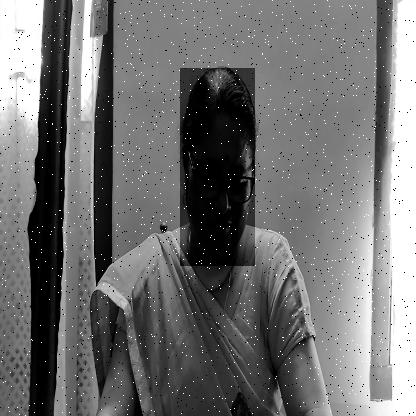Normal: (180, 69, 255, 266)
